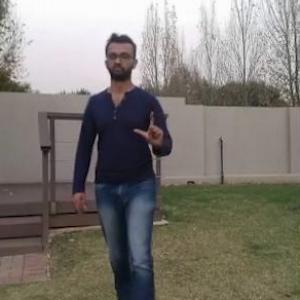land_hand: (132, 107, 168, 151)
